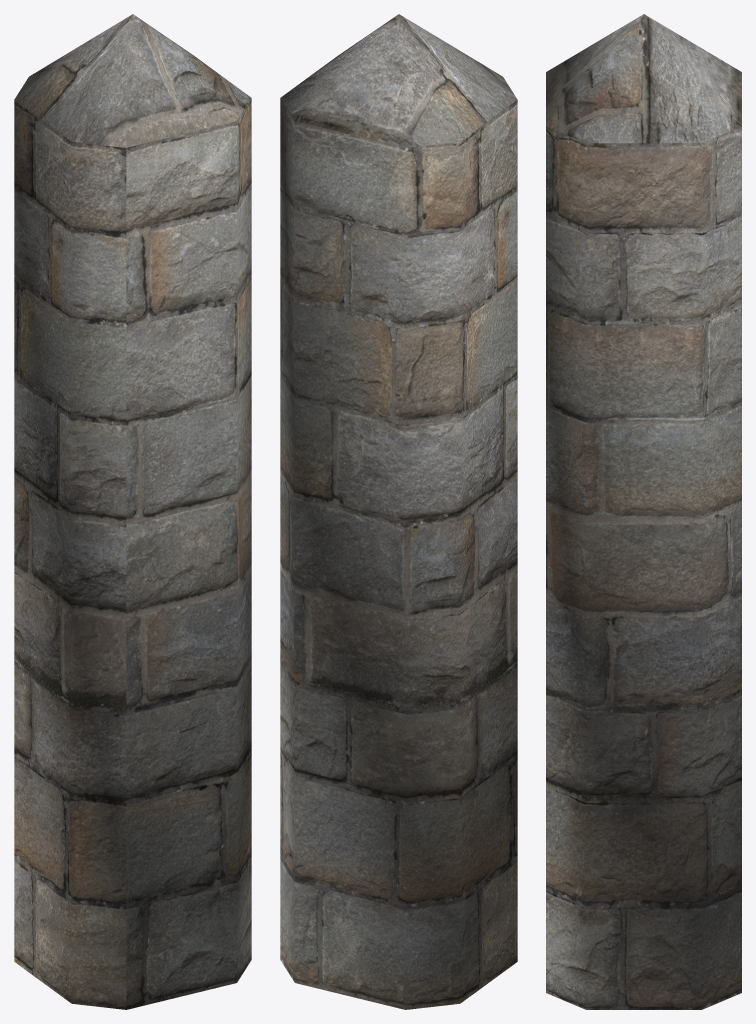
The model's file is IronFenceCorner.fbx.
3 views of the same model, side by side, from view 1: azimuth 30°, elevation 25°; view 2: azimuth 150°, elevation 25°; view 3: azimuth 270°, elevation 25° (orthographic).
Parts seen in each view (by area): view 1: Corner; view 2: Corner; view 3: Corner.
Part boxes in pixels (x1,y1,x2,y2): Corner: (14, 14, 251, 1009); Corner: (280, 14, 517, 1009); Corner: (546, 14, 741, 1009).
Size of the model in its own units: 144 by 725 by 135.
1 material, 1 textured.
